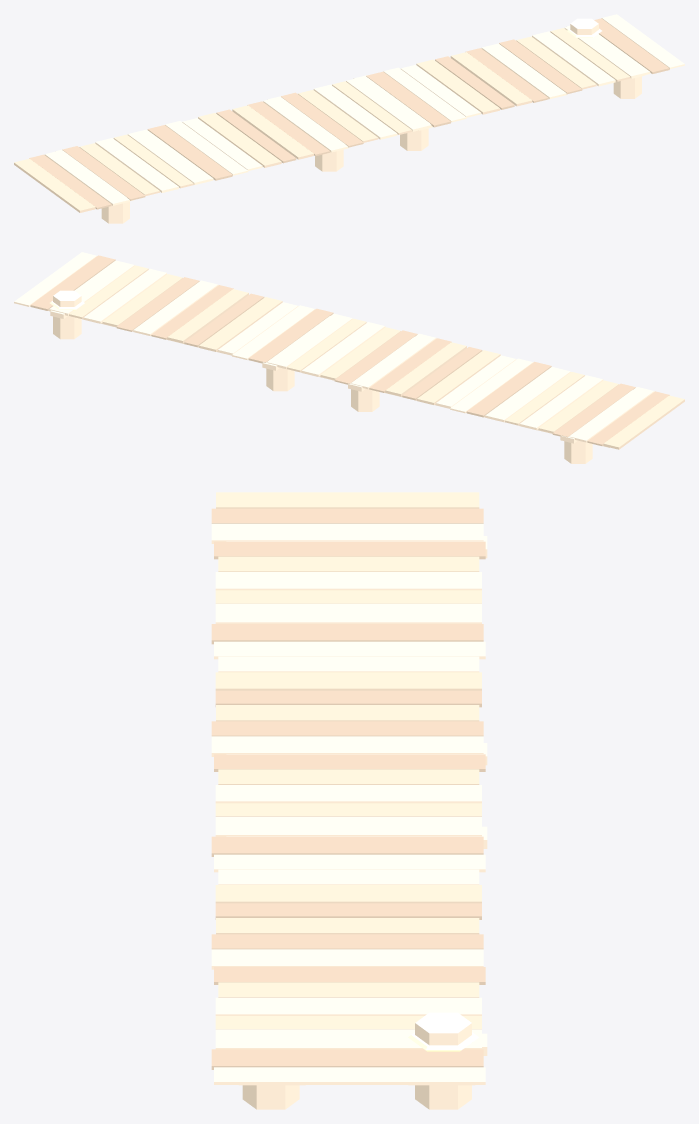
File: bridge3.gltf
3 renders of one model, top to bottom at view 1: azimuth 30°, elevation 25°; view 2: azimuth 150°, elevation 25°; view 3: azimuth 270°, elevation 25°, orthographic. The views are drawn at different scales.
Parts seen in each view (by area): view 1: land_79030, land_79043, land_79020, land_79004, land_79008; view 2: land_79030, land_79043, land_79020, land_79004, land_79008; view 3: land_79030, land_79043, land_79020, land_79004.
Boxes of the visible parts, x1,y1,x2,y2 form: land_79030: (14, 109, 296, 212); land_79043: (232, 56, 514, 159); land_79020: (450, 14, 684, 106); land_79004: (353, 18, 644, 150); land_79008: (55, 96, 344, 223); land_79030: (402, 347, 684, 449); land_79043: (184, 293, 466, 396); land_79020: (14, 252, 248, 343); land_79004: (30, 290, 329, 391); land_79008: (319, 337, 632, 463); land_79030: (211, 492, 485, 707); land_79043: (211, 705, 485, 919); land_79020: (211, 918, 485, 1084); land_79004: (226, 826, 487, 1109).
Size of the model in its own units: 26.75 by 1.62 by 5.29.
Materials: 1 (1 with a texture image).
